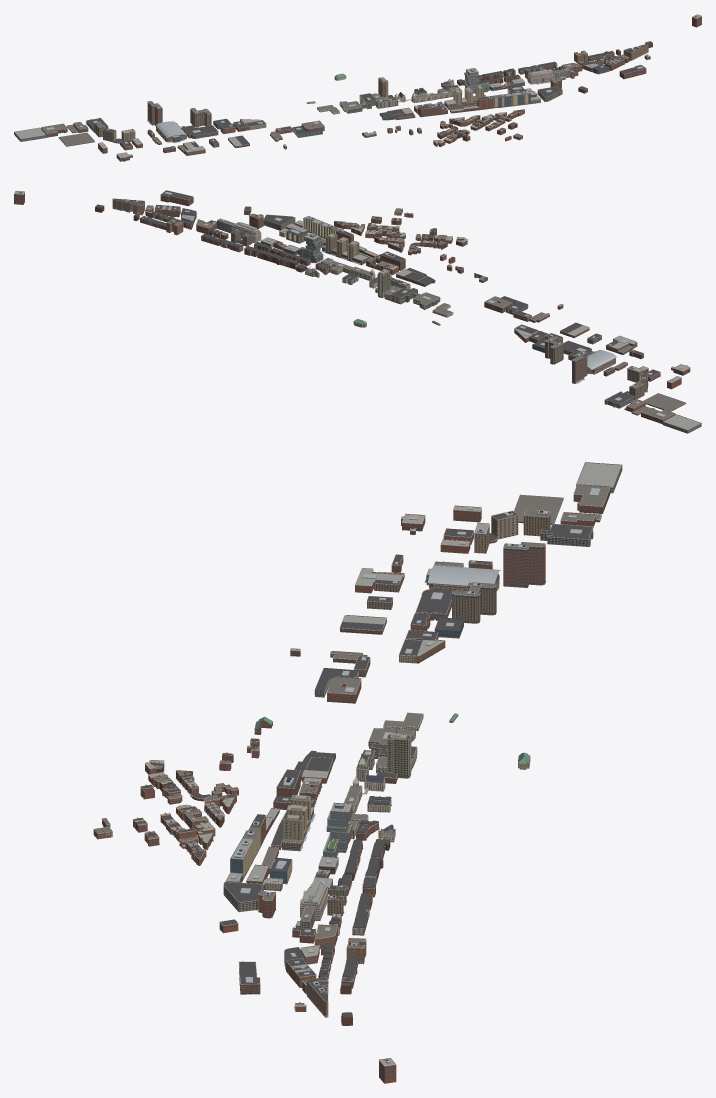
The model's file is buildings-charles-river.glb.
The picture shows the model from 3 angles, top to bottom: view 1: azimuth 30°, elevation 25°; view 2: azimuth 150°, elevation 25°; view 3: azimuth 270°, elevation 25°; orthographic projection. The views are drawn at different scales.
Parts seen in each view (by area): view 1: buildings-charles-river; view 2: buildings-charles-river; view 3: buildings-charles-river.
Boxes of the visible parts, left/top/right/bottom form: buildings-charles-river: left=14, top=14, right=701, bottom=161; buildings-charles-river: left=14, top=190, right=701, bottom=433; buildings-charles-river: left=93, top=462, right=622, bottom=1083.
Size of the model in its own units: 2810 by 105 by 1020.
47 materials, 7 textured.
